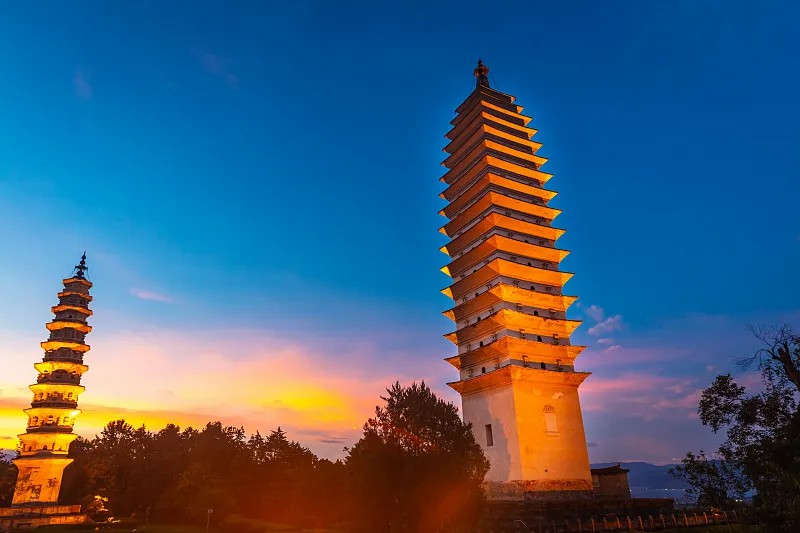ThreePagoda: (438, 59, 593, 495)
